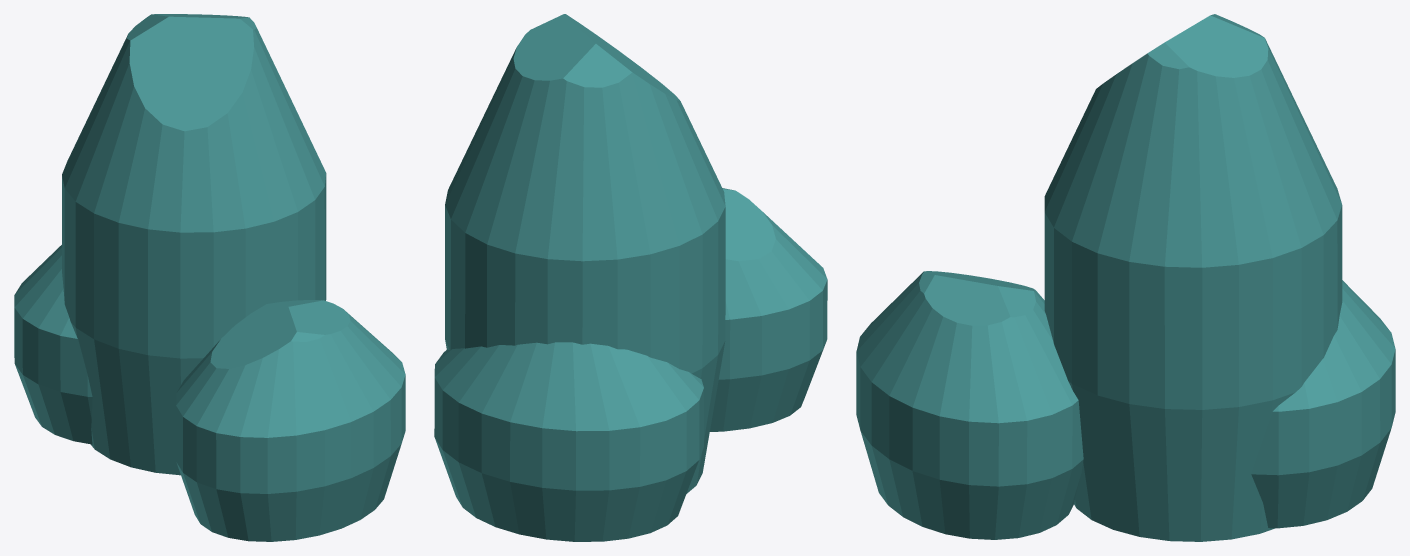
The model's file is bush.glb.
3 views of the same model, side by side, from view 1: azimuth 30°, elevation 25°; view 2: azimuth 150°, elevation 25°; view 3: azimuth 270°, elevation 25° (orthographic). The views are drawn at different scales.
Visible parts, largest first — view 1: Cylinder.079; view 2: Cylinder.079; view 3: Cylinder.079.
Boxes of the visible parts, x1=… form: Cylinder.079: x1=14, y1=14, x2=405, y2=541; Cylinder.079: x1=434, y1=14, x2=827, y2=541; Cylinder.079: x1=856, y1=14, x2=1395, y2=541.
Size of the model in its own units: 0.2438 by 0.387 by 0.407.
